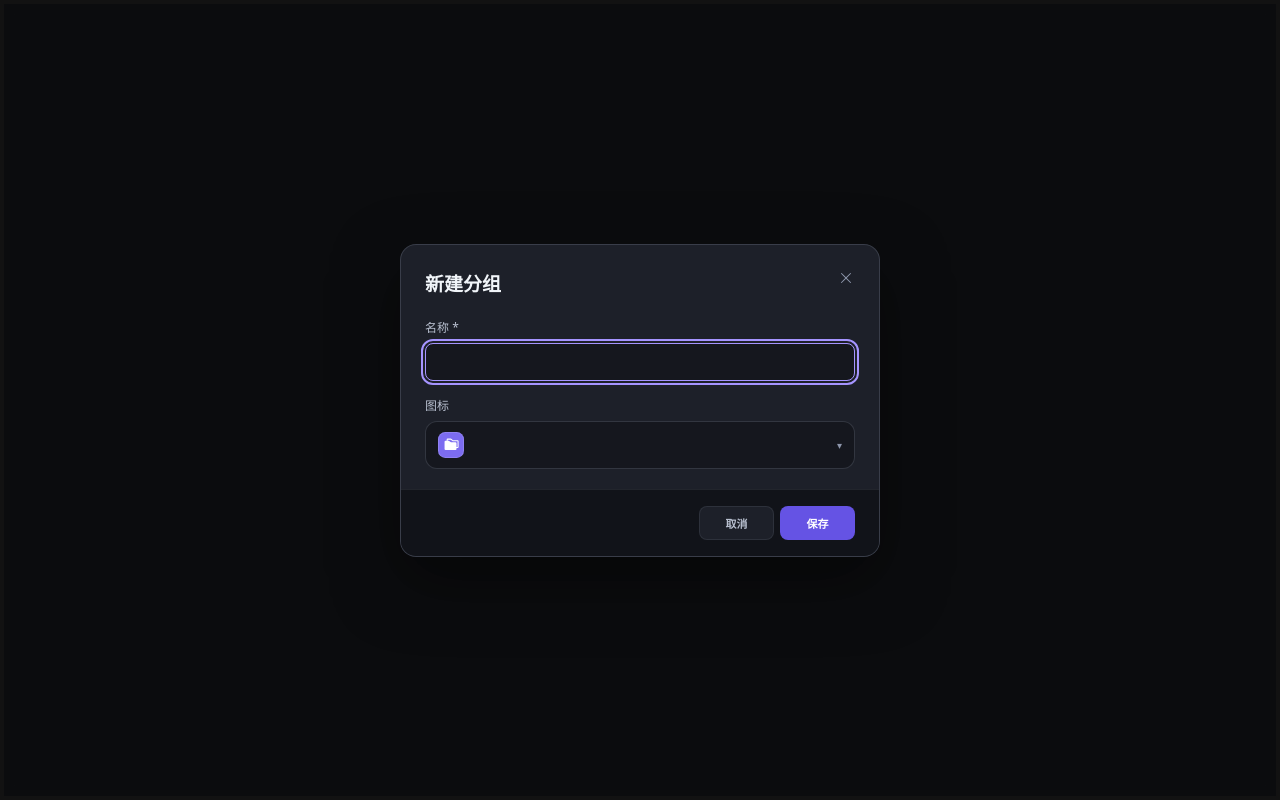
Test: closing a dialog › with edits that are not saved › asks for the X button, the Cancel button and a click on the backdrop too
Type "Work" into the field with test id "group-name-input" at (640, 362), box 425,342 -> 855,380
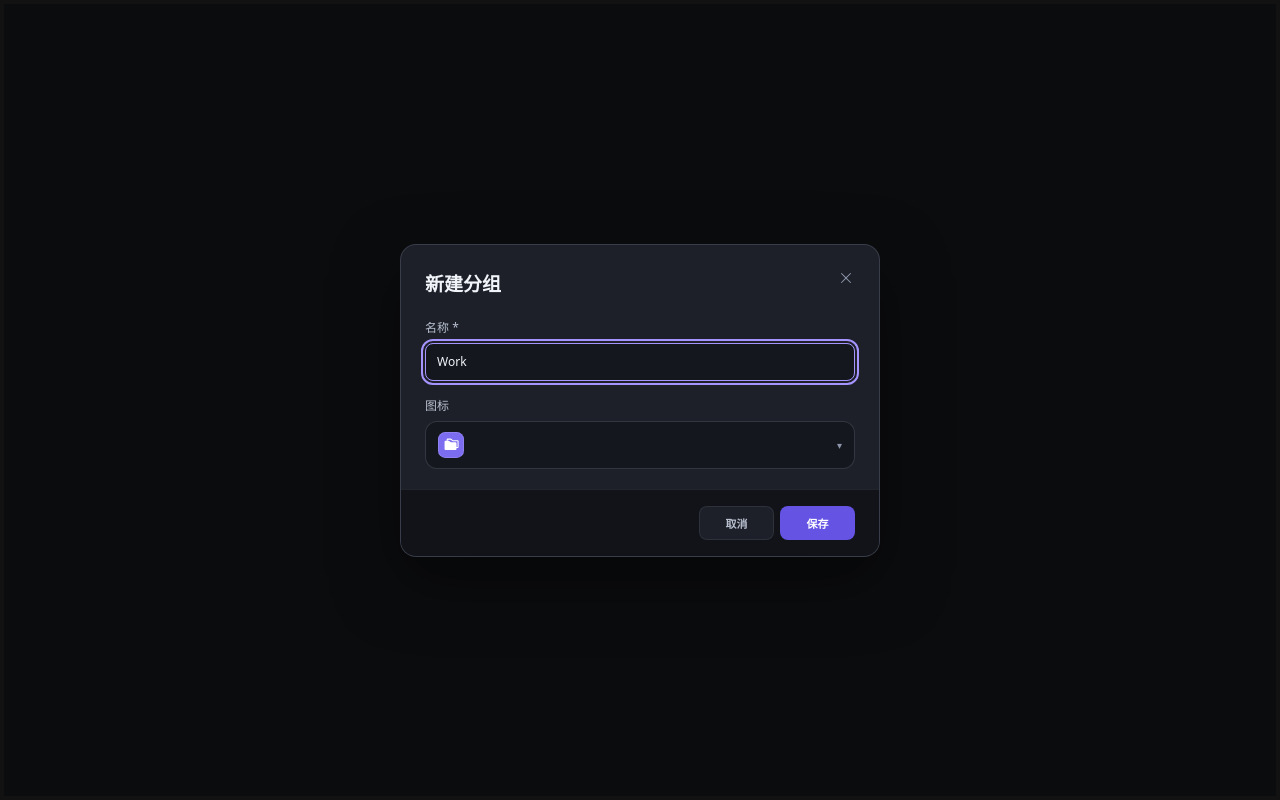
Click the button named "关闭" at (846, 278), box 831,262 -> 861,292
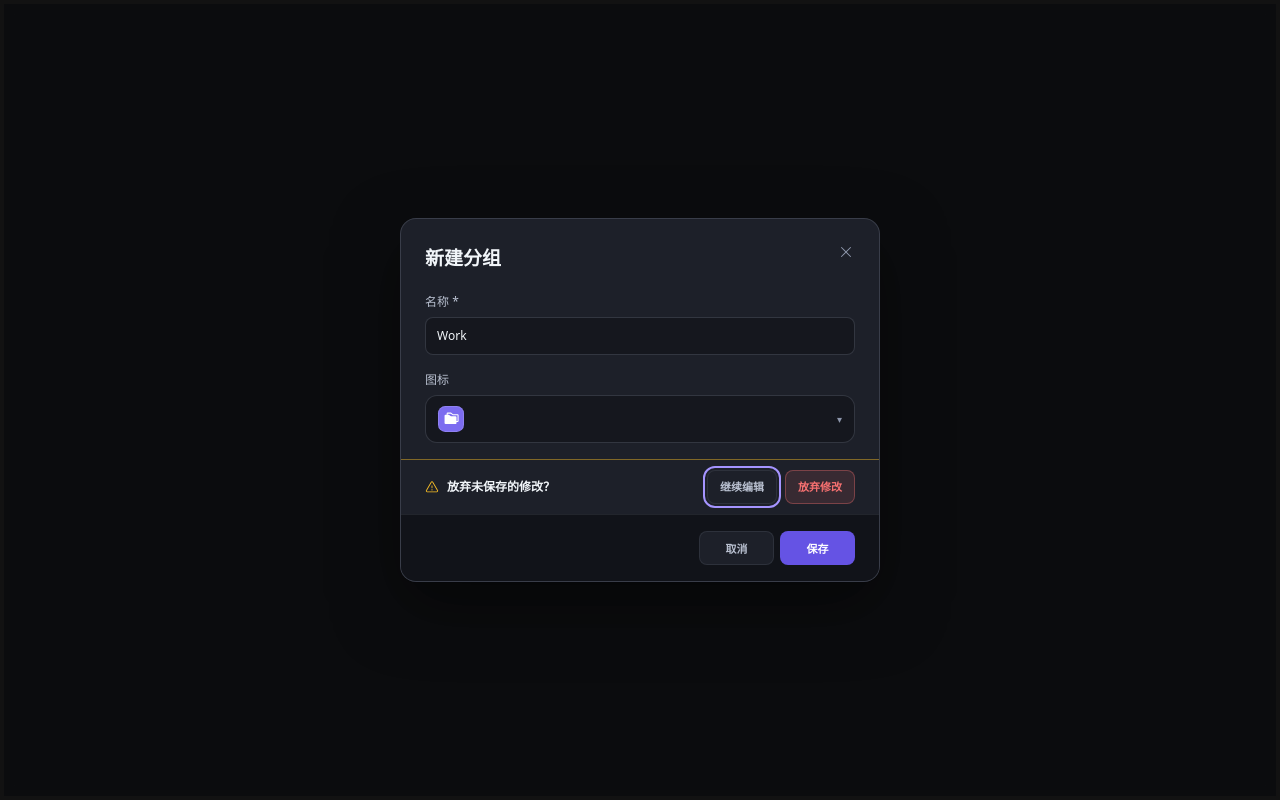
Expected: the message "放弃未保存的修改？ 继续编辑 放弃修改" is shown, 401,459 -> 879,514
Click the button with test id "discard-keep" at (742, 487), box 707,470 -> 777,504
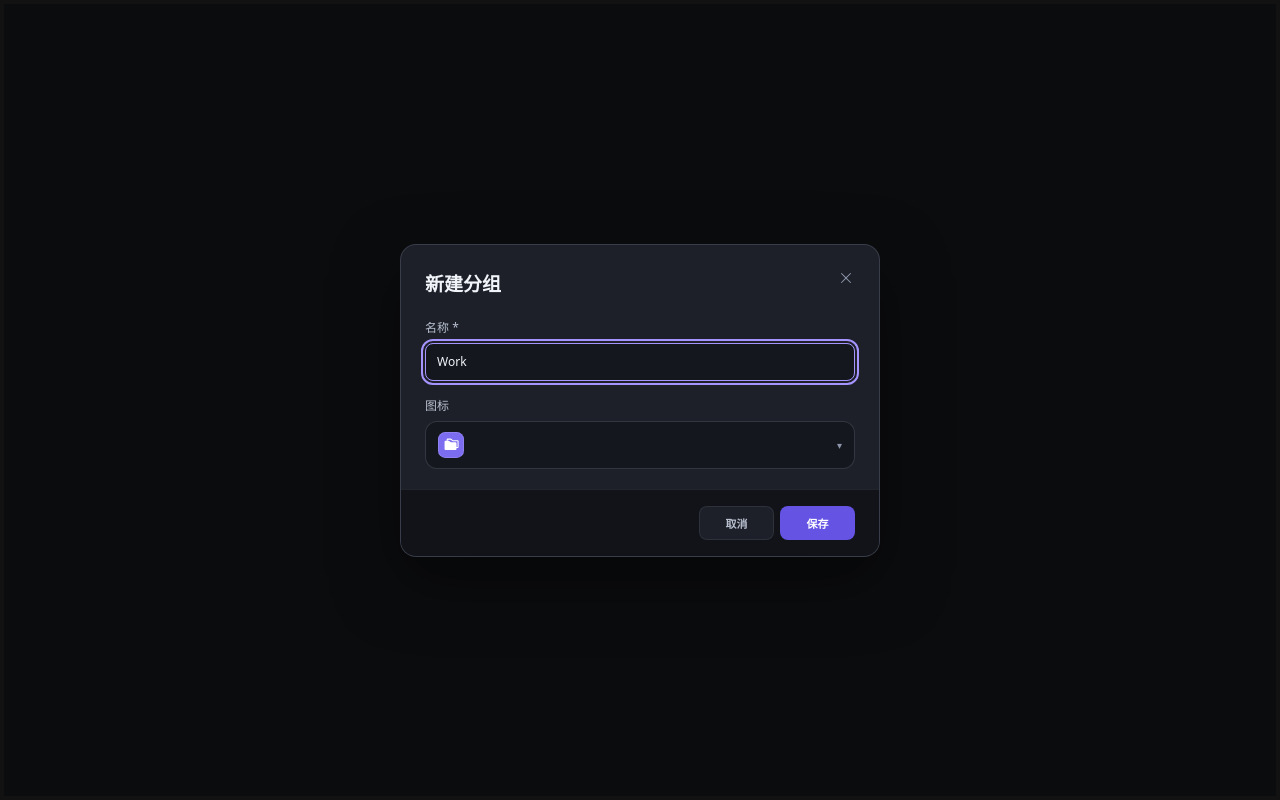
Expected: the message with test id "discard-bar" is gone
Click the button "取消" at (736, 522), box 699,506 -> 774,540
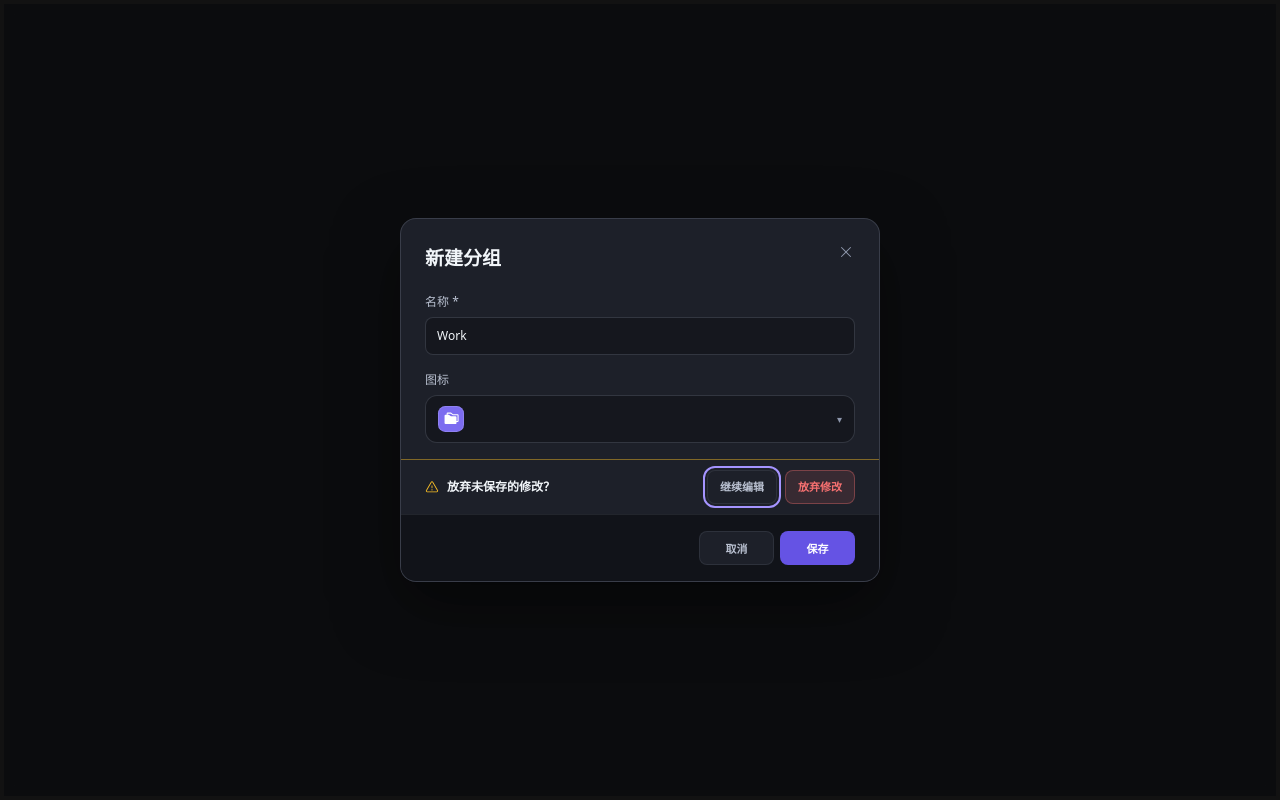
Expected: the message "放弃未保存的修改？ 继续编辑 放弃修改" is shown, 401,459 -> 879,514
Click the button with test id "discard-keep" at (742, 487), box 707,470 -> 777,504
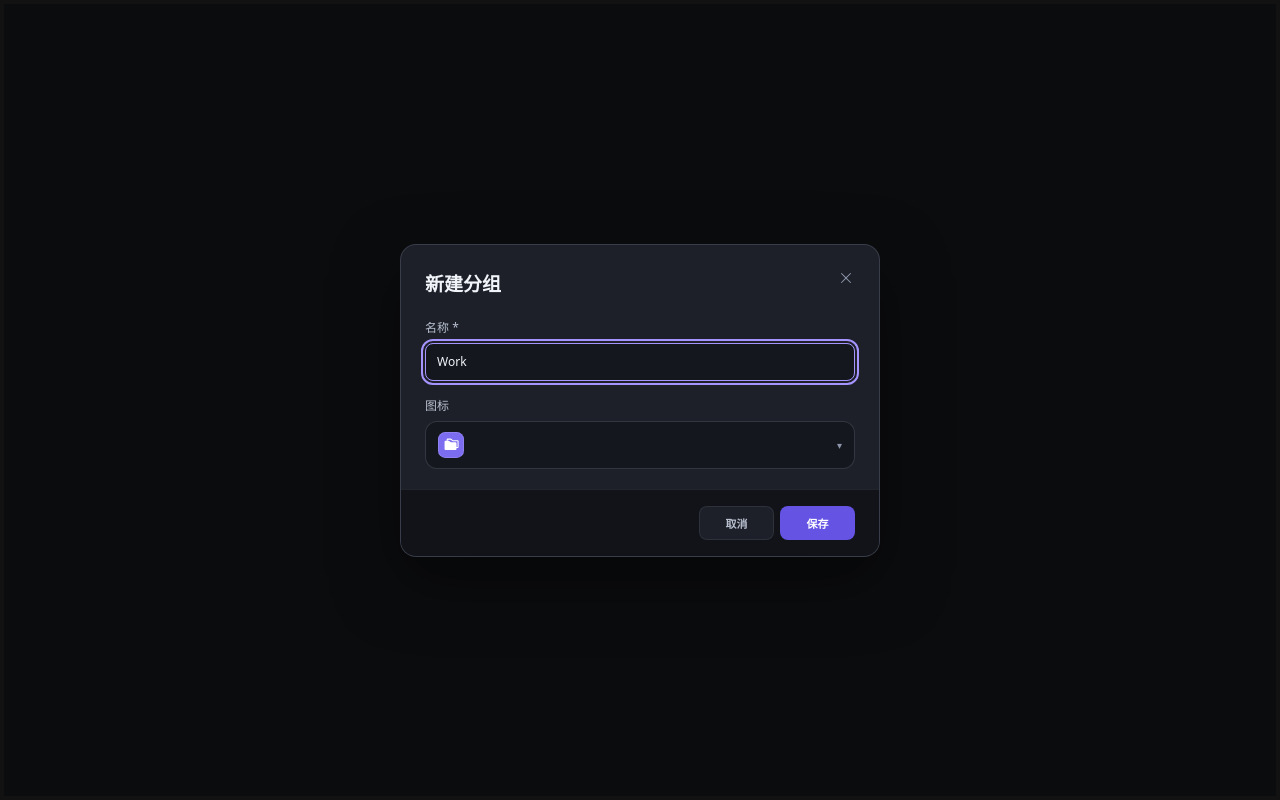
Click the element with class "modal-overlay" at (640, 400), box 4,4 -> 1276,796
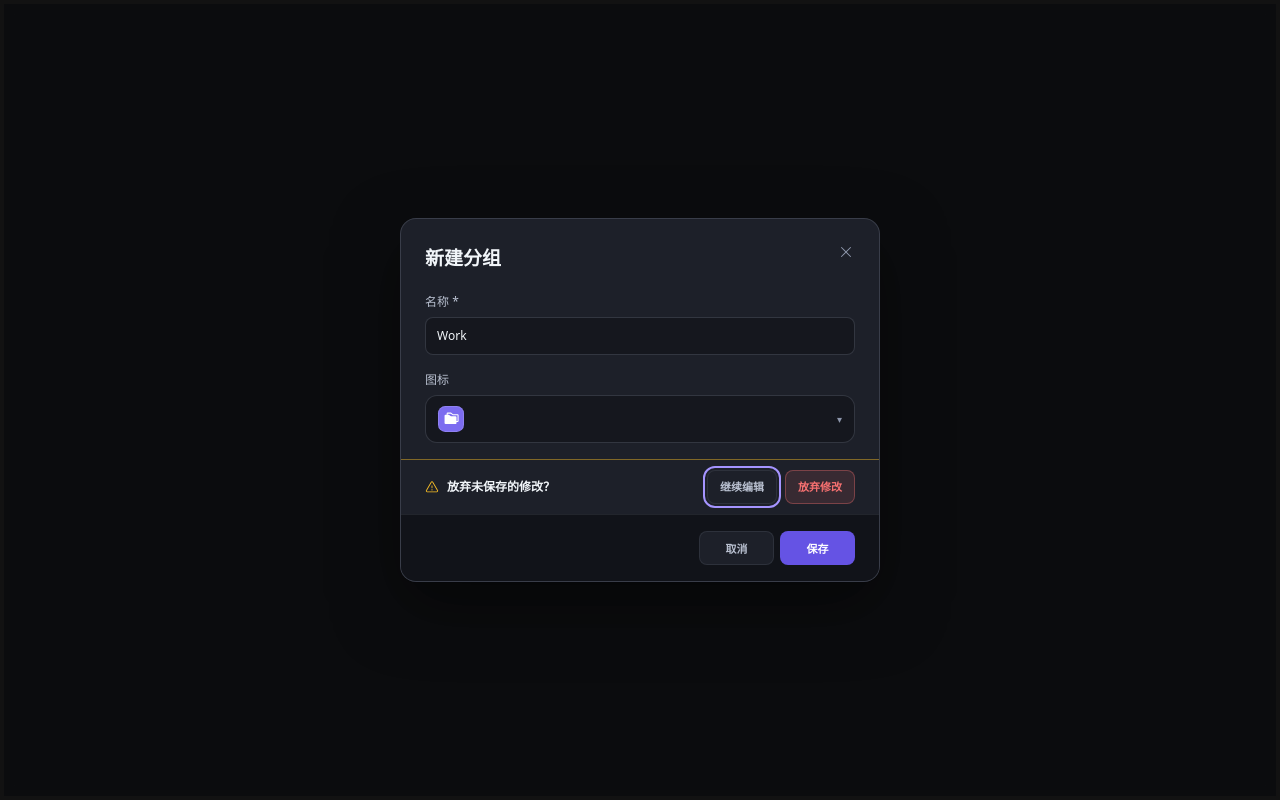
Expected: the message "放弃未保存的修改？ 继续编辑 放弃修改" is shown, 401,459 -> 879,514
